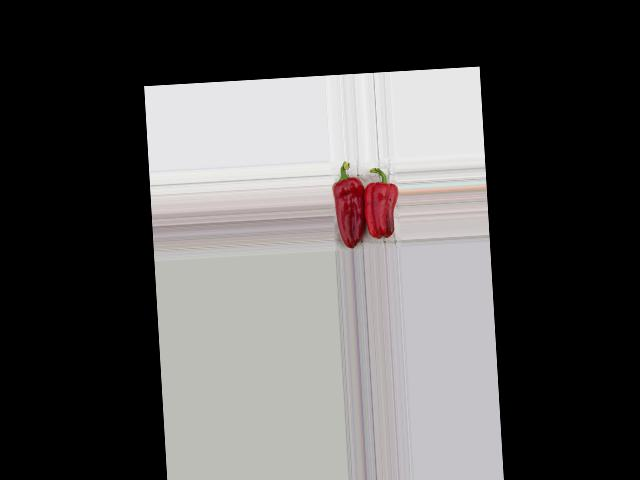bell_pepper: (331, 158, 368, 249)
